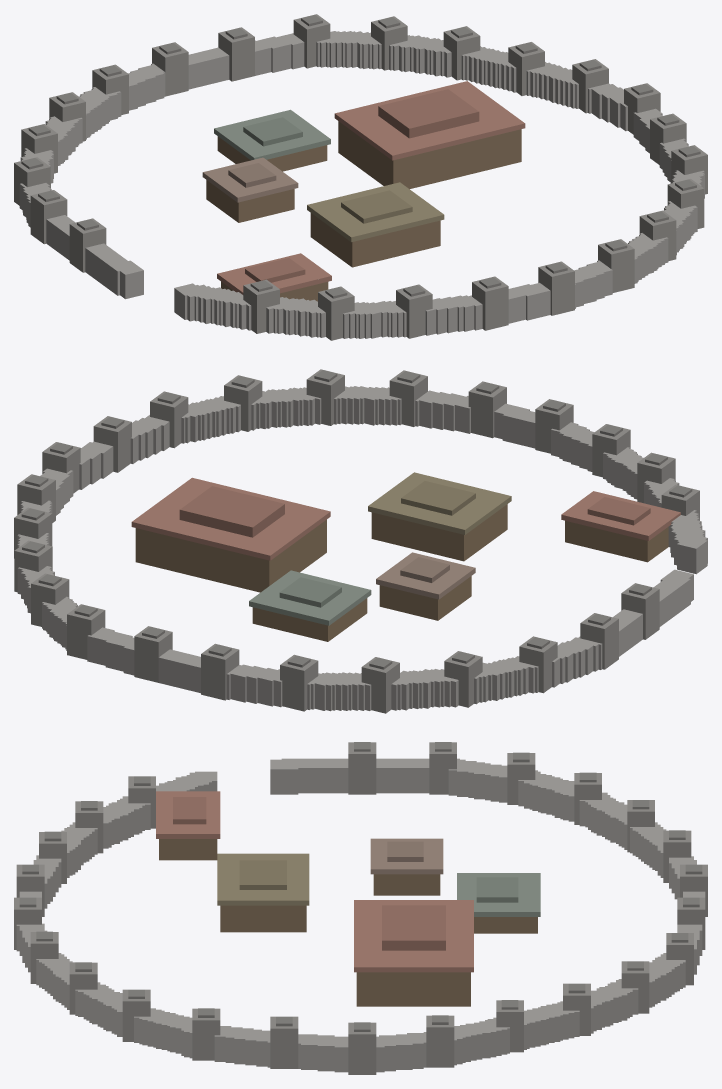
File: ciudad_castillo_real_3078_1648_01.glb
The picture shows the model from 3 angles, top to bottom: view 1: azimuth 30°, elevation 25°; view 2: azimuth 150°, elevation 25°; view 3: azimuth 270°, elevation 25°; orthographic projection. The views are drawn at different scales.
Visible parts, largest first — view 1: ciudad_castillo_real_3078_1648; view 2: ciudad_castillo_real_3078_1648; view 3: ciudad_castillo_real_3078_1648.
Boxes of the visible parts, x1,y1,x2,y2 form: ciudad_castillo_real_3078_1648: (14, 14, 707, 340); ciudad_castillo_real_3078_1648: (14, 369, 707, 713); ciudad_castillo_real_3078_1648: (14, 742, 707, 1074).
Bounding box in the file's own units: 62 × 5 × 62.25.
